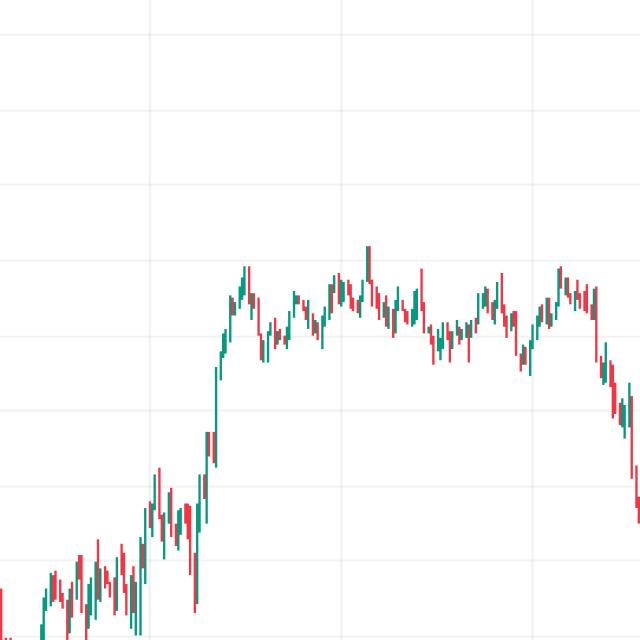rectangle: (186, 235, 640, 385)
